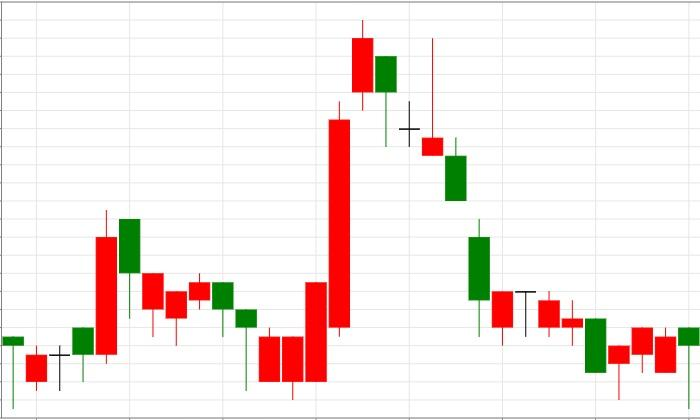hammer_rise: (119, 218, 257, 391)
hanging_man_fall: (258, 19, 397, 400)
